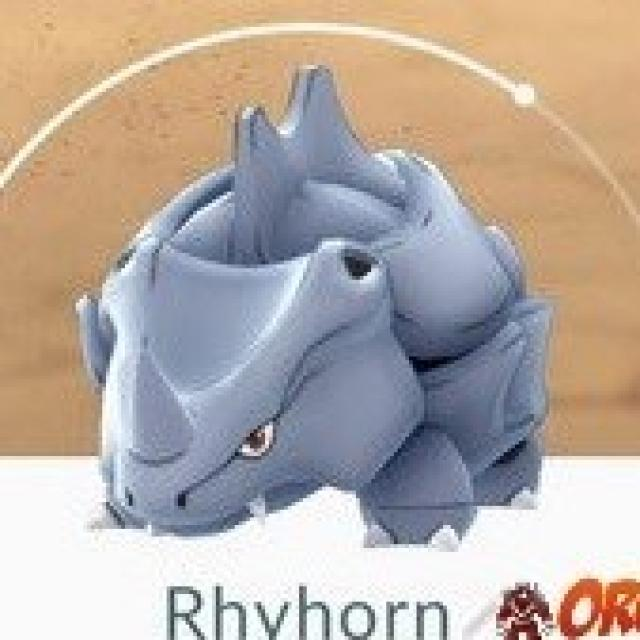Rhyhorn: (31, 65, 570, 567)
